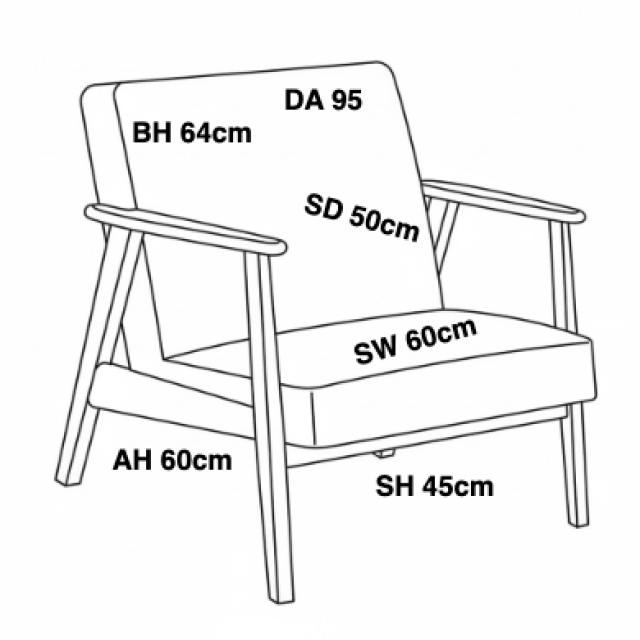AH_Label: (111, 446, 234, 473)
Armrest: (419, 179, 588, 337), (83, 203, 289, 257)
BH_Label: (131, 119, 254, 146)
Backrest: (80, 64, 445, 367)
DA_Label: (284, 87, 363, 112)
Leg_Structure: (53, 228, 589, 607)
SD_Label: (303, 190, 424, 245)
SH_Label: (376, 472, 496, 498)
SW_Label: (352, 312, 480, 369)
Seat: (131, 308, 598, 449)
